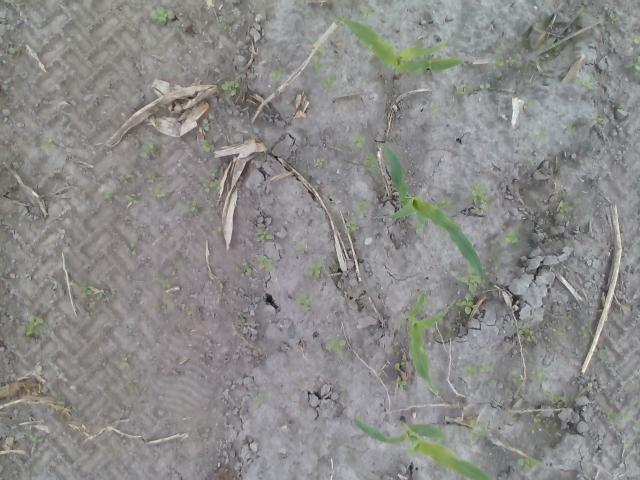Maize: (382, 141, 486, 283), (350, 412, 492, 480), (331, 13, 468, 80), (404, 288, 446, 398)
Weeds: (463, 418, 490, 445), (308, 36, 326, 70), (514, 368, 552, 384), (471, 182, 493, 208), (295, 290, 319, 313), (240, 255, 272, 272), (148, 5, 176, 24), (456, 273, 480, 294), (248, 389, 272, 410), (25, 316, 47, 338), (466, 360, 496, 376), (606, 407, 634, 424), (455, 294, 477, 315), (552, 310, 568, 336), (324, 335, 346, 353), (544, 385, 567, 402), (304, 259, 324, 278), (516, 456, 538, 473), (20, 431, 43, 447), (518, 322, 536, 342), (140, 142, 158, 161), (502, 226, 520, 244), (154, 271, 172, 289), (220, 79, 238, 97), (366, 152, 378, 178), (351, 131, 366, 151), (344, 217, 361, 234), (146, 175, 161, 193), (352, 196, 368, 212), (622, 60, 640, 74), (256, 226, 274, 240), (319, 76, 337, 90), (595, 344, 609, 361), (559, 200, 577, 213), (536, 126, 550, 142), (564, 118, 577, 135), (591, 112, 604, 128), (496, 56, 516, 66), (575, 78, 593, 89), (392, 376, 406, 390), (127, 193, 143, 205), (208, 178, 220, 192), (622, 432, 632, 448), (40, 138, 54, 149), (270, 70, 282, 82), (627, 33, 640, 44), (547, 46, 560, 57), (478, 81, 492, 91), (312, 158, 326, 168), (452, 84, 464, 95), (436, 198, 449, 208), (79, 288, 90, 299), (578, 326, 590, 336), (211, 223, 221, 235), (527, 158, 537, 168), (533, 414, 543, 424), (526, 402, 536, 412), (6, 46, 17, 55), (631, 421, 640, 432), (120, 174, 128, 186), (610, 15, 619, 25), (523, 99, 534, 107), (431, 103, 440, 112), (631, 379, 640, 388), (128, 382, 136, 392), (120, 360, 130, 368), (207, 168, 217, 176), (104, 190, 112, 200), (632, 398, 640, 408), (415, 224, 424, 232), (296, 244, 304, 252), (512, 392, 520, 400), (432, 384, 438, 394), (202, 118, 208, 128), (400, 463, 405, 472), (200, 138, 207, 144), (394, 362, 400, 368)
